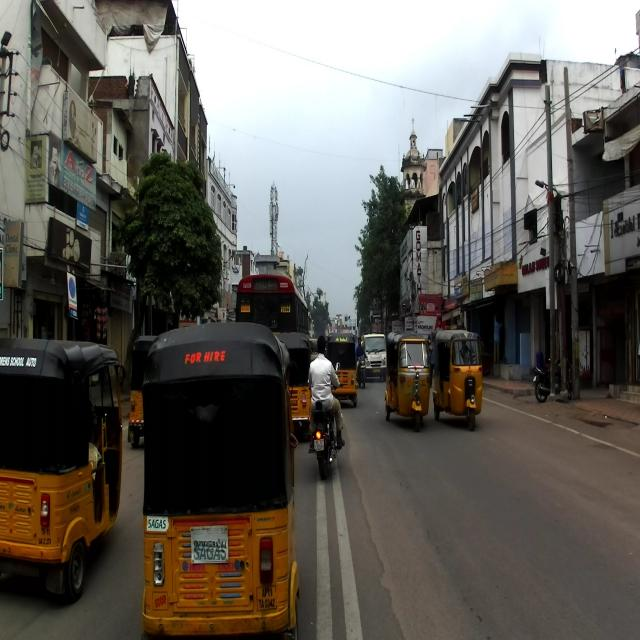autorickshaw: (137, 320, 301, 636), (0, 335, 126, 603), (432, 329, 483, 429)
motorcycle_RoyalEnfield: (308, 362, 344, 479)
